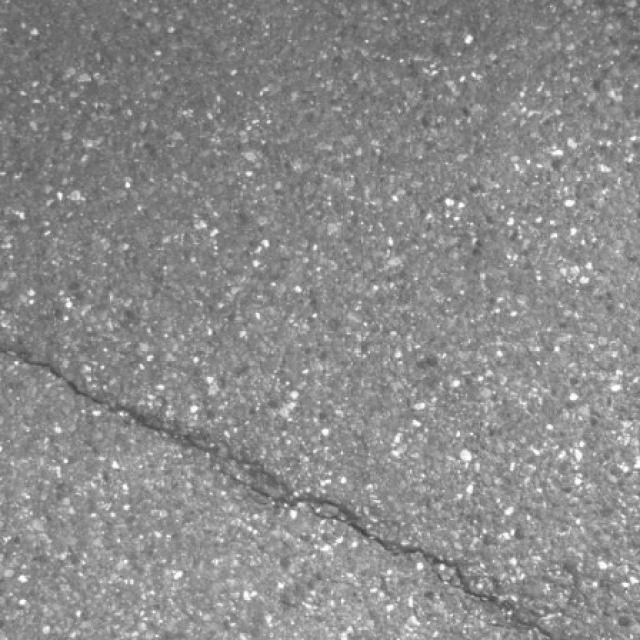Diagonal Crack: (0, 345, 640, 640)
